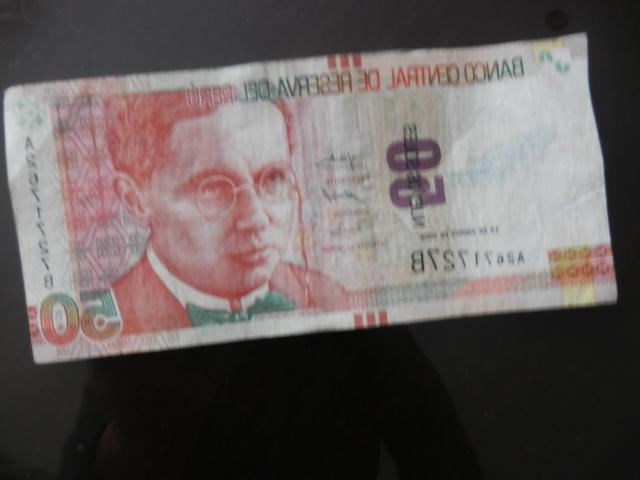B50: (3, 32, 618, 364)
